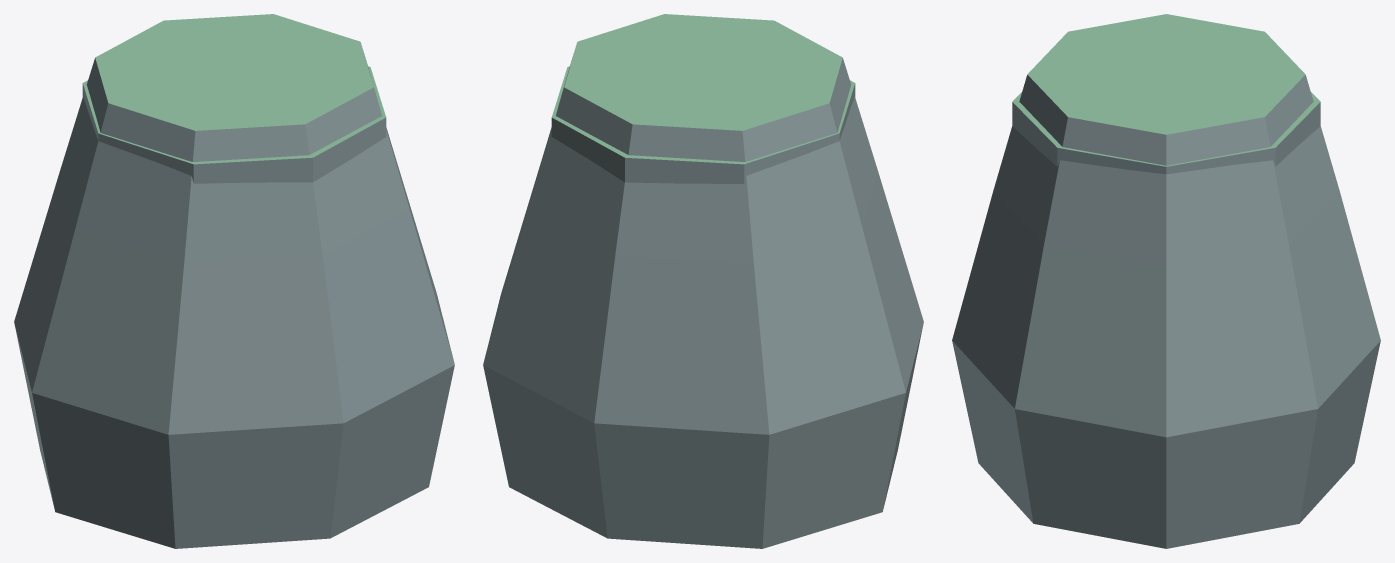
Rendered from npc_module_upper_arm_v01.glb.
The picture shows the model from 3 angles, left to right: view 1: azimuth 30°, elevation 25°; view 2: azimuth 150°, elevation 25°; view 3: azimuth 270°, elevation 25°; orthographic projection.
Visible parts, largest first — view 1: GEO_npc_module_upper_arm_v01; view 2: GEO_npc_module_upper_arm_v01; view 3: GEO_npc_module_upper_arm_v01.
Boxes of the visible parts, <box> form: GEO_npc_module_upper_arm_v01: <box>14,14,454,548</box>; GEO_npc_module_upper_arm_v01: <box>483,14,923,548</box>; GEO_npc_module_upper_arm_v01: <box>952,14,1380,548</box>.
Size of the model in its own units: 1.22 by 1.14 by 1.14.
